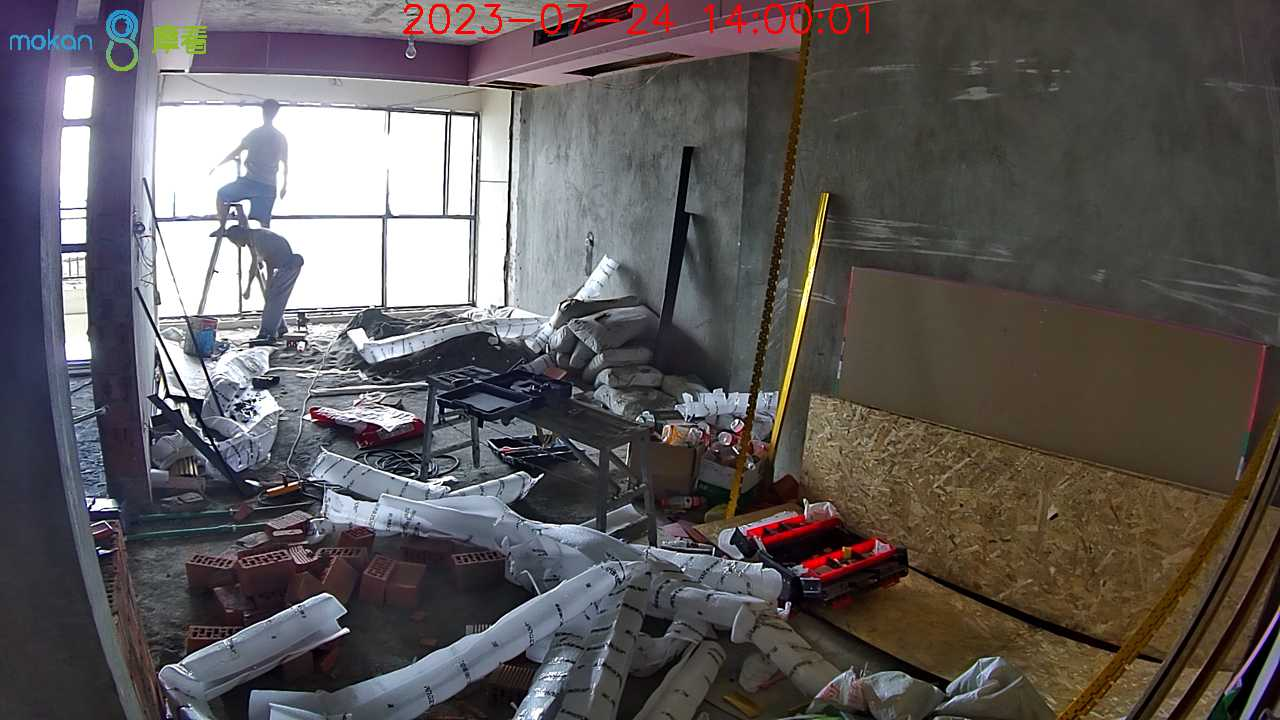people: (223, 230, 307, 345), (216, 101, 287, 225)
window: (155, 103, 485, 309)
